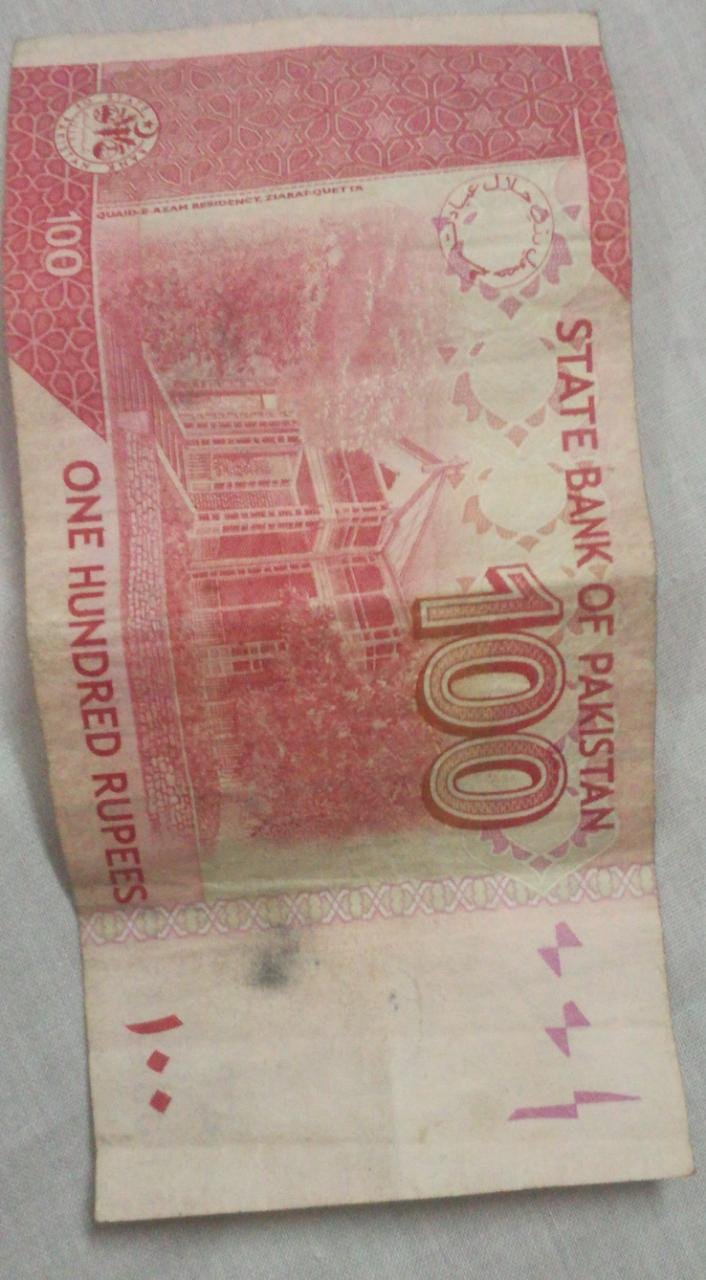100 rupee: (7, 74, 706, 1204)
